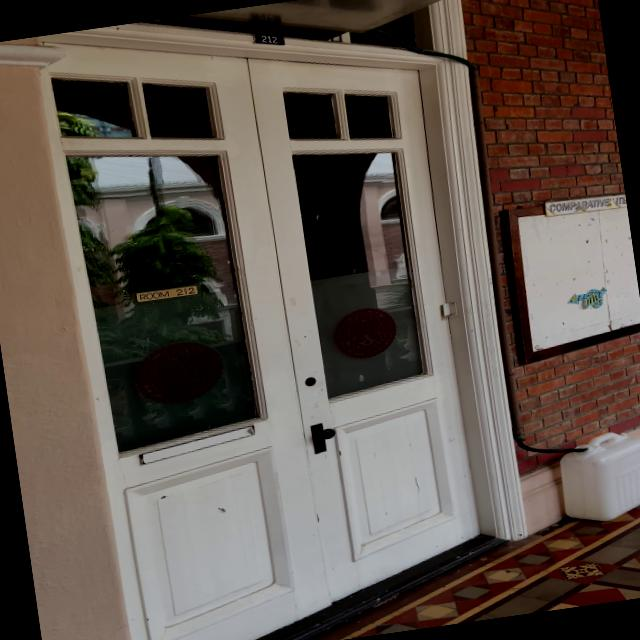room212: (246, 28, 286, 52)
room212Window: (125, 278, 211, 308)
